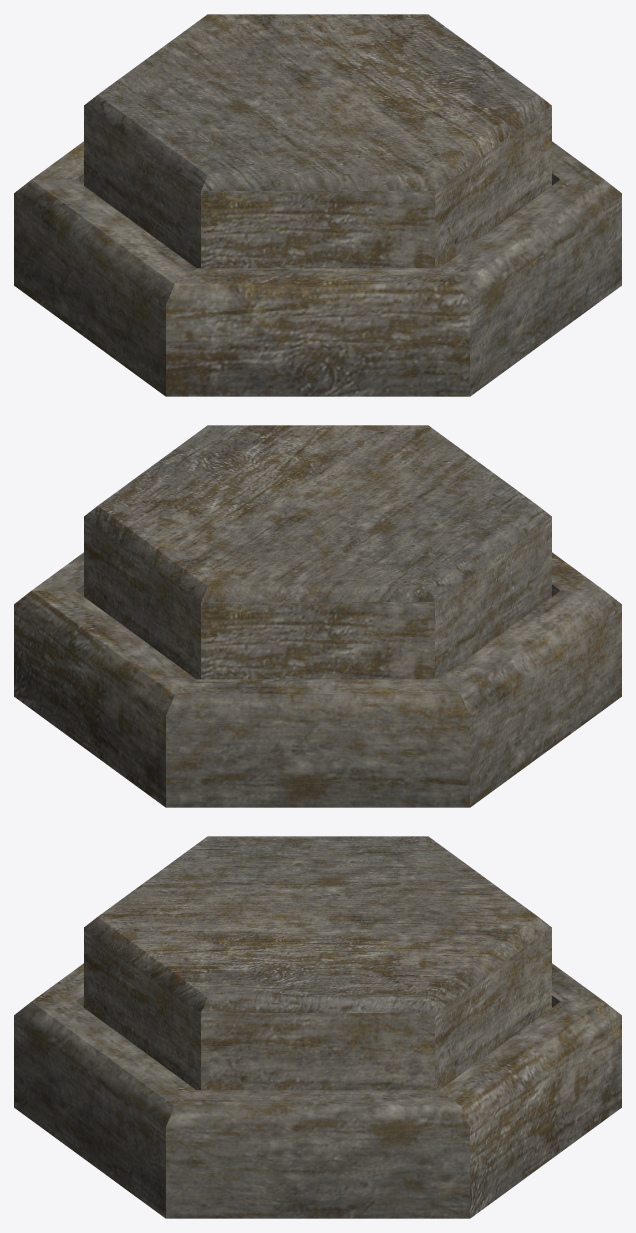
The model's file is button_3.fbx.
3 renders of one model, top to bottom at view 1: azimuth 30°, elevation 25°; view 2: azimuth 150°, elevation 25°; view 3: azimuth 270°, elevation 25°, orthographic.
Visible parts, largest first — view 1: button_3b, button_3a; view 2: button_3b, button_3a; view 3: button_3b, button_3a.
Boxes of the visible parts, box(x1,y1,x2,y2) form: button_3b: box(84, 14, 551, 268); button_3a: box(14, 141, 621, 396); button_3b: box(84, 425, 551, 679); button_3a: box(14, 552, 621, 807); button_3b: box(84, 836, 551, 1090); button_3a: box(14, 963, 621, 1218).
Size of the model in its own units: 22.52 by 9 by 26.
